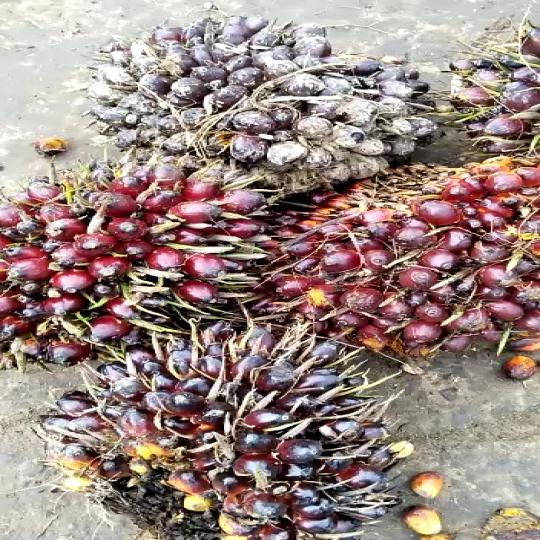kurang masak: (38, 322, 412, 539), (93, 22, 438, 195), (0, 148, 288, 353), (283, 153, 540, 360)
